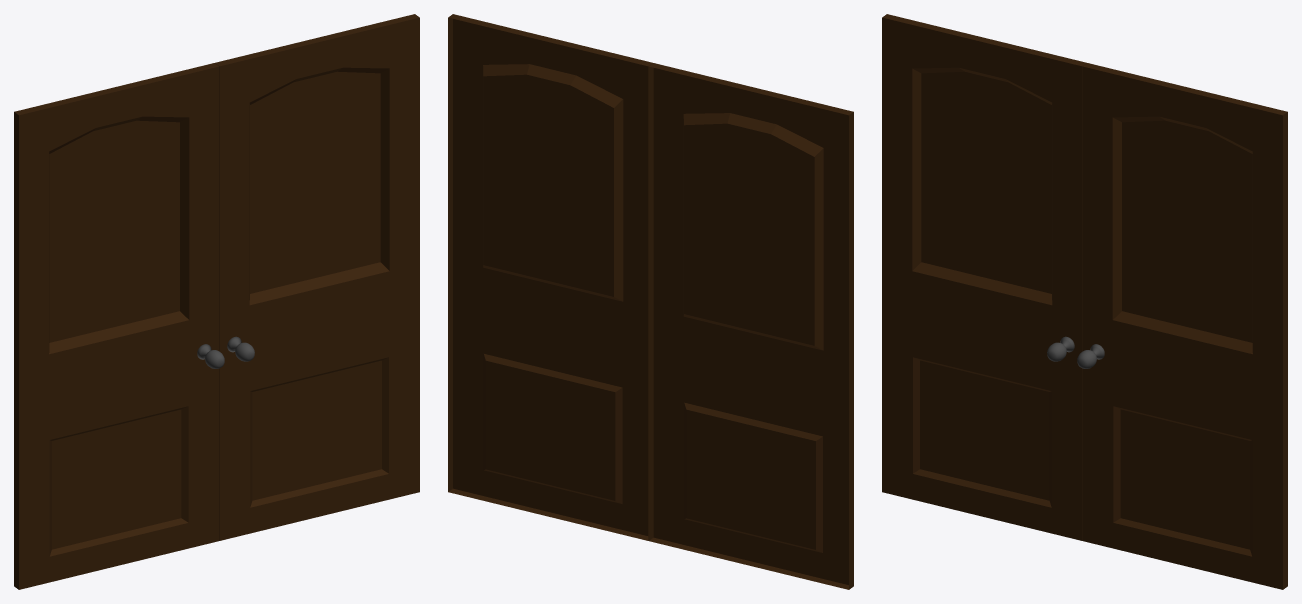
The model's file is CPI441_Fur_Door1_V2_O1_Double.fbx.
The picture shows the model from 3 angles, left to right: view 1: azimuth 30°, elevation 25°; view 2: azimuth 150°, elevation 25°; view 3: azimuth 330°, elevation 25°; orthographic projection.
Visible parts, largest first — view 1: Circle; view 2: Circle; view 3: Circle.
Boxes of the visible parts, box(x1,y1,x2,y2) form: Circle: box(14, 14, 419, 589); Circle: box(448, 14, 853, 589); Circle: box(882, 14, 1287, 589).
Bounding box in the file's own units: 882 × 997 × 79.26.
